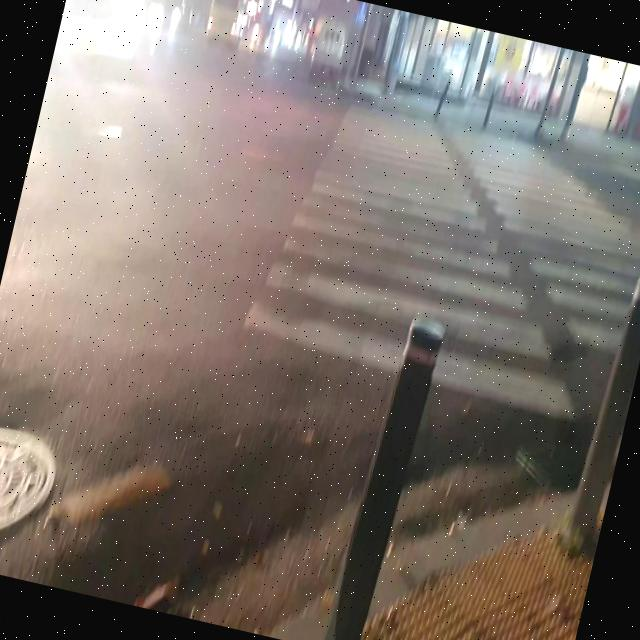crosswalk: (237, 97, 640, 439)
